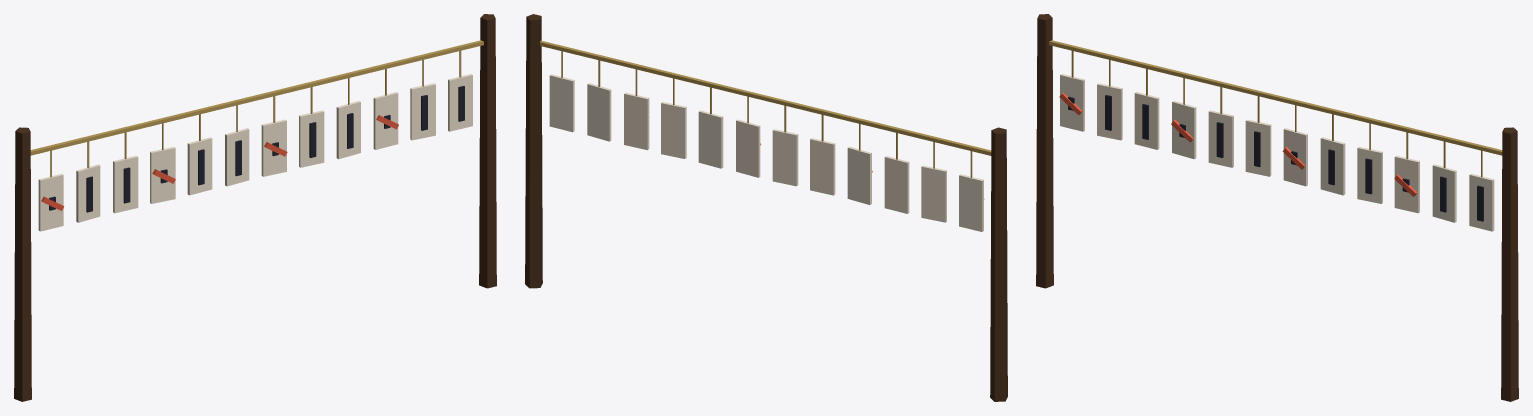
Rendered from prop_name_board_row.glb.
3 renders of one model, left to right at view 1: azimuth 30°, elevation 25°; view 2: azimuth 150°, elevation 25°; view 3: azimuth 330°, elevation 25°, orthographic.
Visible parts, largest first — view 1: prop_name_board_row; view 2: prop_name_board_row; view 3: prop_name_board_row.
Boxes of the visible parts, x1=… form: prop_name_board_row: x1=14, y1=14, x2=496, y2=401; prop_name_board_row: x1=525, y1=14, x2=1007, y2=401; prop_name_board_row: x1=1036, y1=14, x2=1518, y2=401.
Bounding box in the file's own units: 4.13 × 2.2 × 0.1266.
